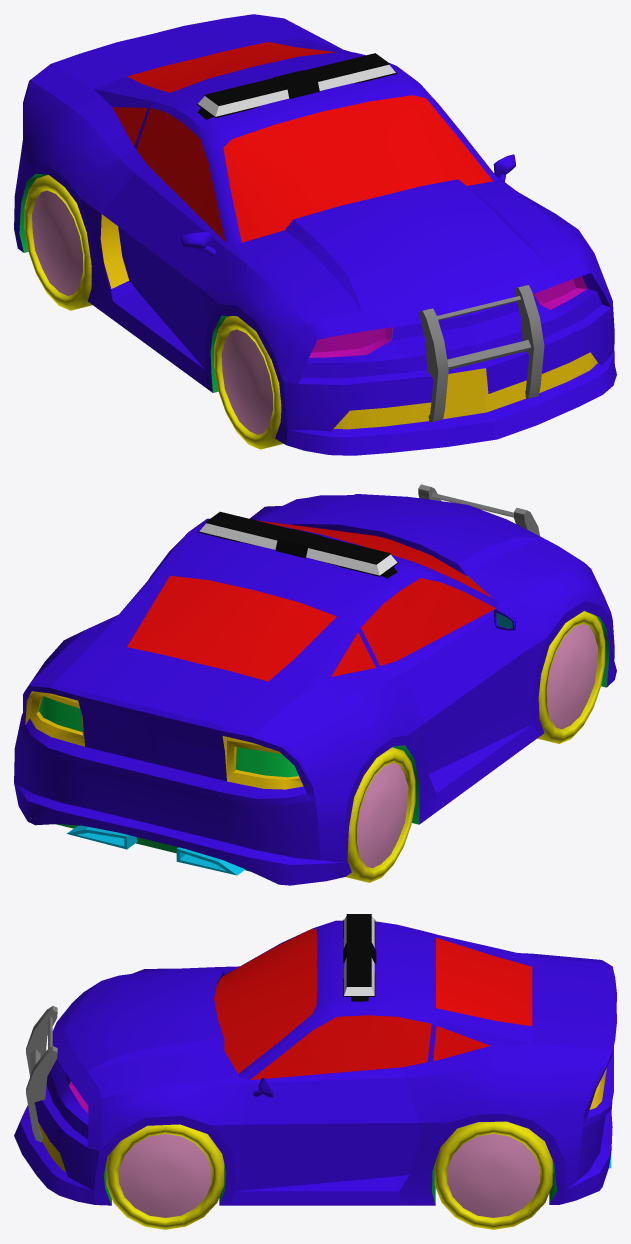
The model's file is 11_VenomInfernoPolice_ColorCoded.fbx.
3 views of the same model, one above another, from view 1: azimuth 30°, elevation 25°; view 2: azimuth 150°, elevation 25°; view 3: azimuth 270°, elevation 25° (orthographic). The views are drawn at different scales.
Visible parts, largest first — view 1: Body, tireBackR, tireFrontR, police_ram, police_light; view 2: Body, tireBackR, tireFrontR, police_light, police_ram; view 3: Body, tireBackL, tireFrontL, police_light, police_ram.
Part boxes in pixels (left/top/right/bottom): Body: left=14, top=14, right=616, bottom=455; tireBackR: left=24, top=175, right=92, bottom=310; tireFrontR: left=214, top=316, right=283, bottom=449; police_ram: left=420, top=285, right=544, bottom=422; police_light: left=196, top=53, right=396, bottom=119; Body: left=14, top=494, right=616, bottom=885; tireBackR: left=346, top=747, right=415, bottom=882; tireFrontR: left=537, top=611, right=605, bottom=743; police_light: left=198, top=511, right=398, bottom=578; police_ram: left=418, top=484, right=539, bottom=535; Body: left=14, top=920, right=616, bottom=1205; tireBackL: left=434, top=1121, right=552, bottom=1229; tireFrontL: left=106, top=1124, right=224, bottom=1229; police_light: left=343, top=914, right=376, bottom=1001; police_ram: left=26, top=1006, right=57, bottom=1141.
Size of the model in its own units: 63.16 by 114 by 44.31.
